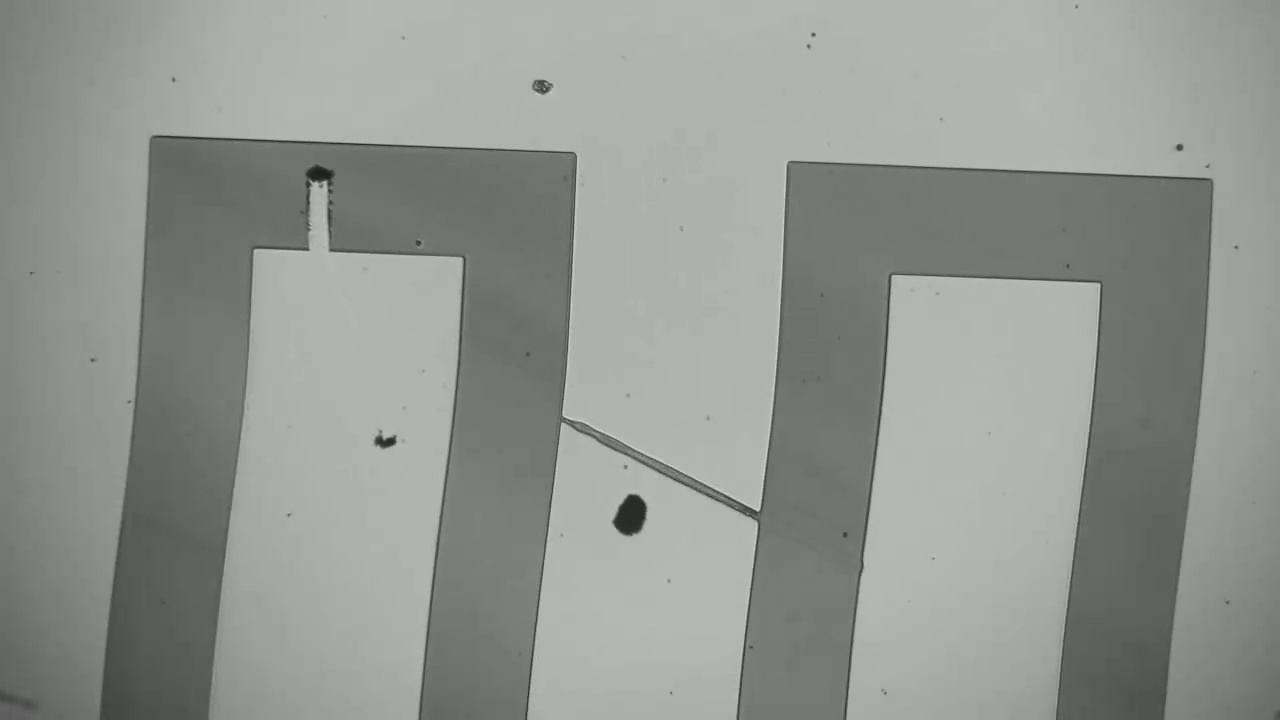Short_circuit: (286, 118, 369, 277)
